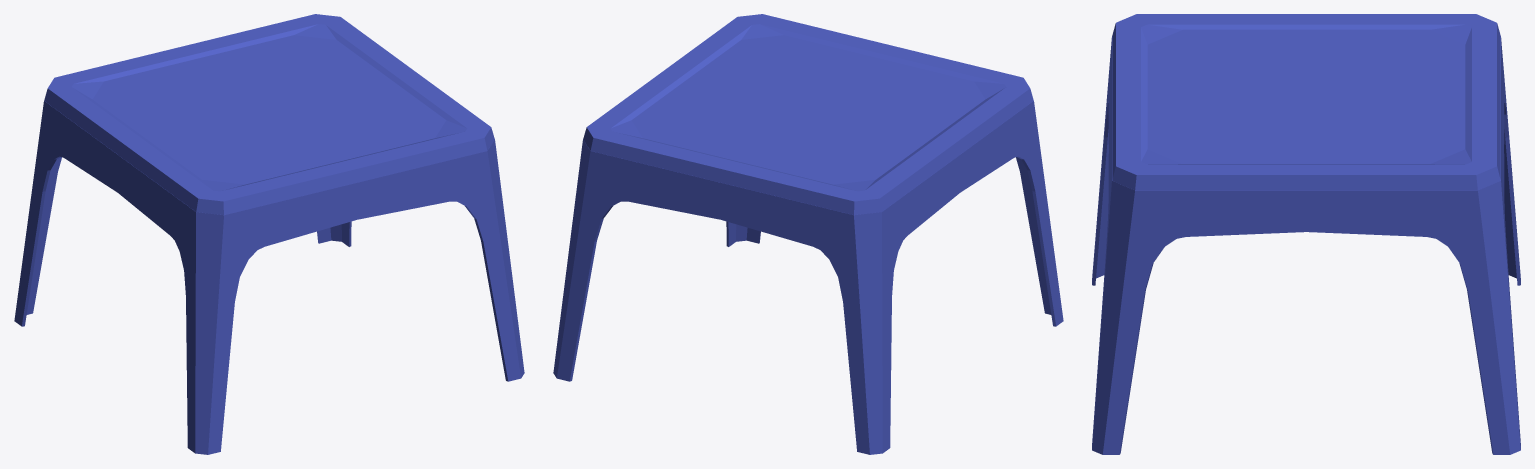
File: SM_Furniture_TableLow_Blue_01.obj
The picture shows the model from 3 angles, left to right: view 1: azimuth 30°, elevation 25°; view 2: azimuth 150°, elevation 25°; view 3: azimuth 270°, elevation 25°; orthographic projection. The views are drawn at different scales.
Parts seen in each view (by area): view 1: SM_Furniture_TableLow_Blue_01; view 2: SM_Furniture_TableLow_Blue_01; view 3: SM_Furniture_TableLow_Blue_01.
Part boxes in pixels (x1=…): SM_Furniture_TableLow_Blue_01: x1=14, y1=14, x2=524, y2=454; SM_Furniture_TableLow_Blue_01: x1=553, y1=14, x2=1063, y2=454; SM_Furniture_TableLow_Blue_01: x1=1092, y1=14, x2=1520, y2=454.
Bounding box in the file's own units: 0.648 × 0.45 × 0.648.
Materials: 1 (1 with a texture image).
